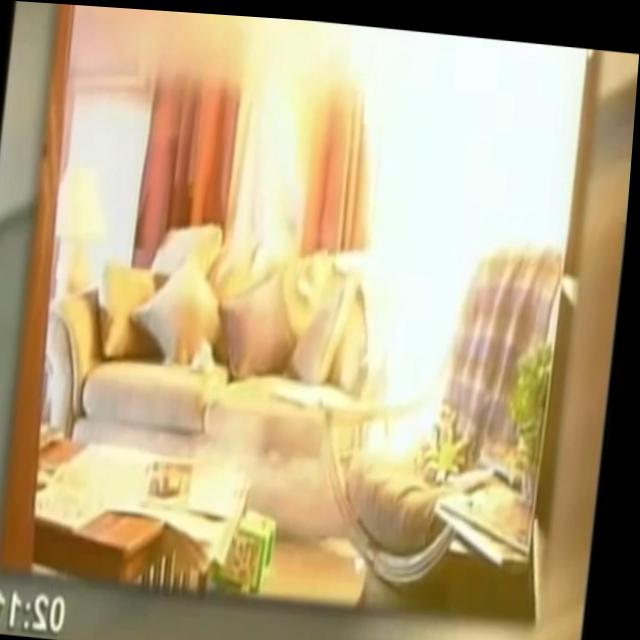fire: (309, 18, 586, 454)
